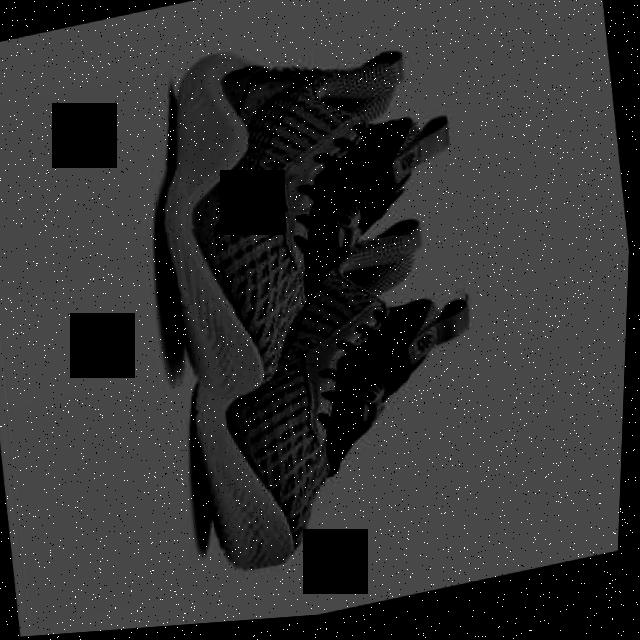shoe: (132, 11, 484, 415), (165, 177, 505, 586)
